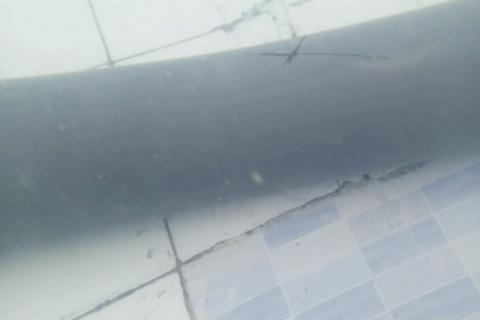keretakan: (256, 37, 389, 69)
